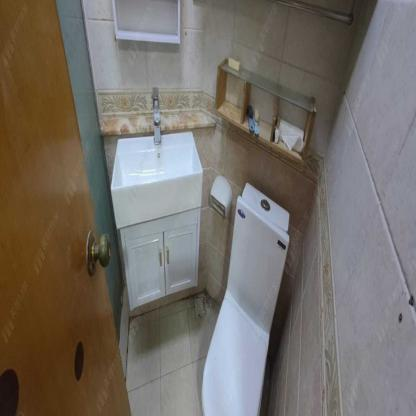Toilet: (201, 180, 289, 415)
Toilet Sink: (111, 131, 202, 228)
